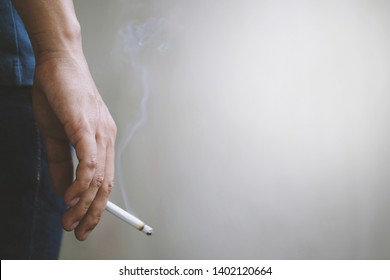cigarette: (102, 196, 154, 238)
